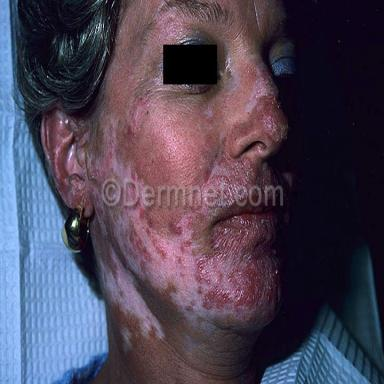Lupus-Erythematosus-Chronicus-Discoides: (41, 96, 283, 341), (199, 128, 273, 186), (244, 55, 289, 145)
